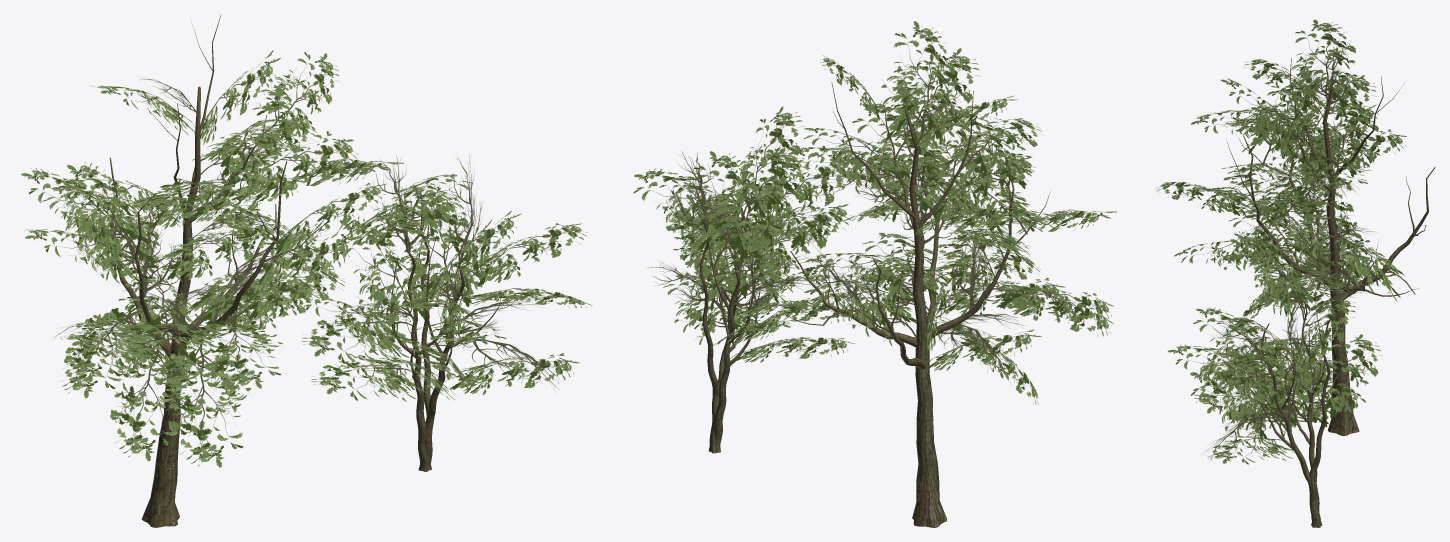
Rendered from oak_pale_a.glb.
3 views of the same model, side by side, from view 1: azimuth 30°, elevation 25°; view 2: azimuth 150°, elevation 25°; view 3: azimuth 270°, elevation 25° (orthographic). The views are drawn at different scales.
Parts seen in each view (by area): view 1: leafplanes_2_196_0_w; view 2: leafplanes_2_196_0_w; view 3: leafplanes_2_196_0_w.
Part boxes in pixels (left/top/right/bottom): leafplanes_2_196_0_w: left=21, top=14, right=592, bottom=527; leafplanes_2_196_0_w: left=633, top=21, right=1116, bottom=527; leafplanes_2_196_0_w: left=1155, top=19, right=1435, bottom=527.
Size of the model in its own units: 10.62 by 9 by 5.78.
Materials: 2 (2 with a texture image).
